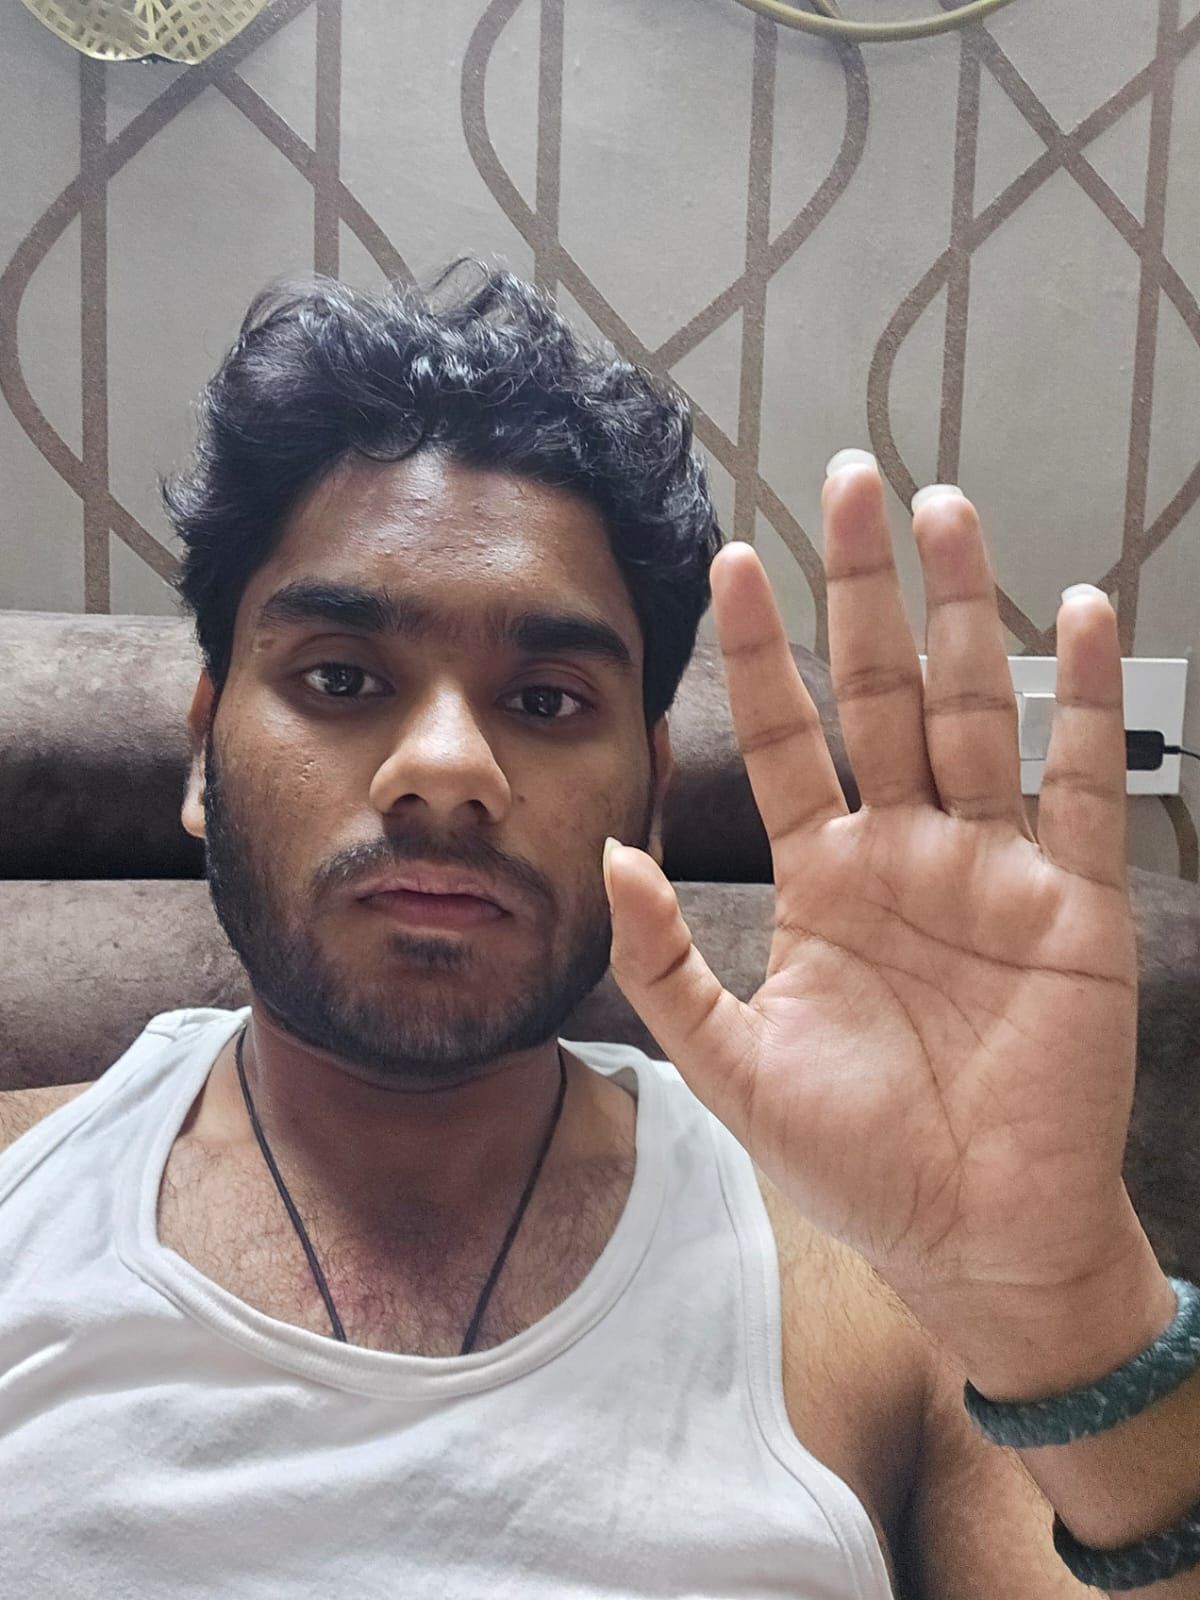hello: (599, 450, 1139, 1286)
